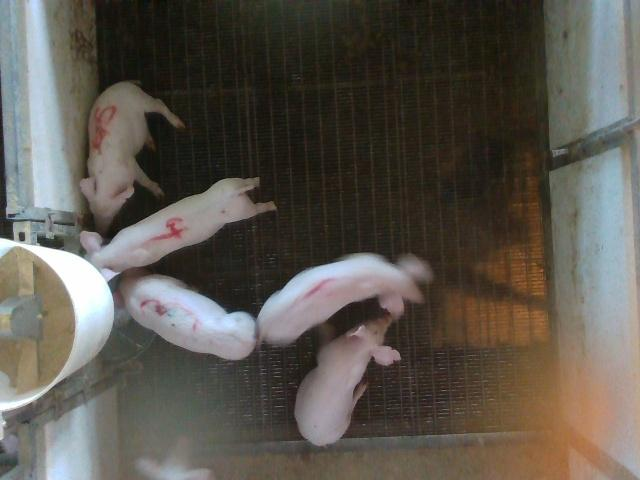pig-1: (258, 252, 431, 344)
pig-3: (119, 269, 256, 360)
pig-4: (82, 178, 276, 280)
pig-5: (80, 81, 184, 234)
